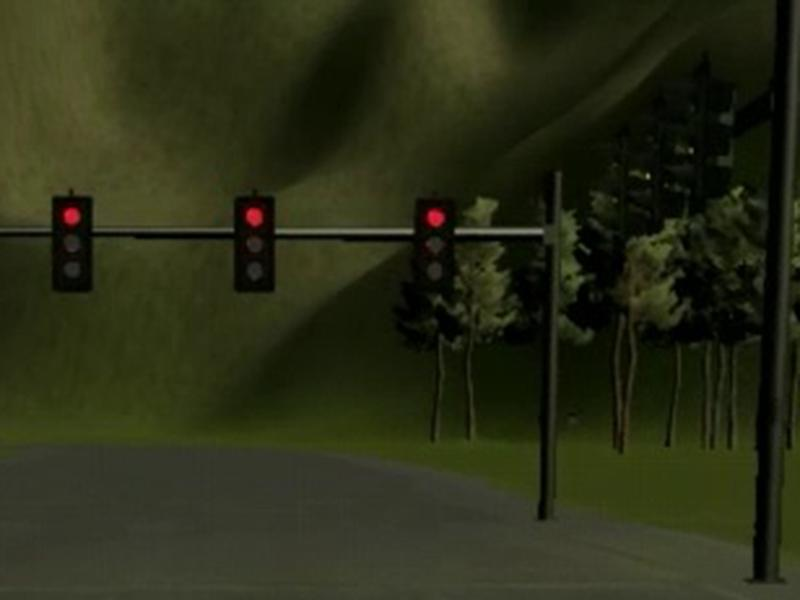Red: (235, 194, 272, 293), (417, 197, 455, 287), (54, 198, 91, 290)
